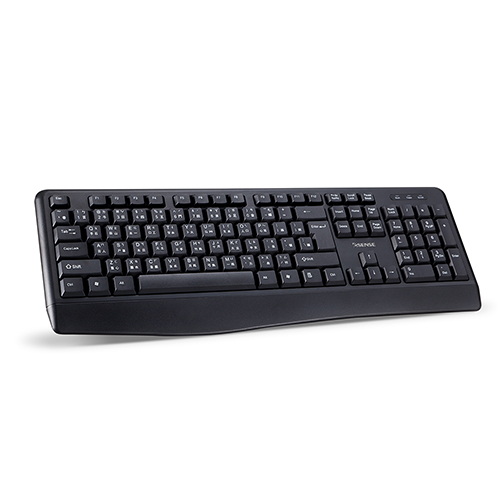keyboard: (23, 178, 485, 350)
